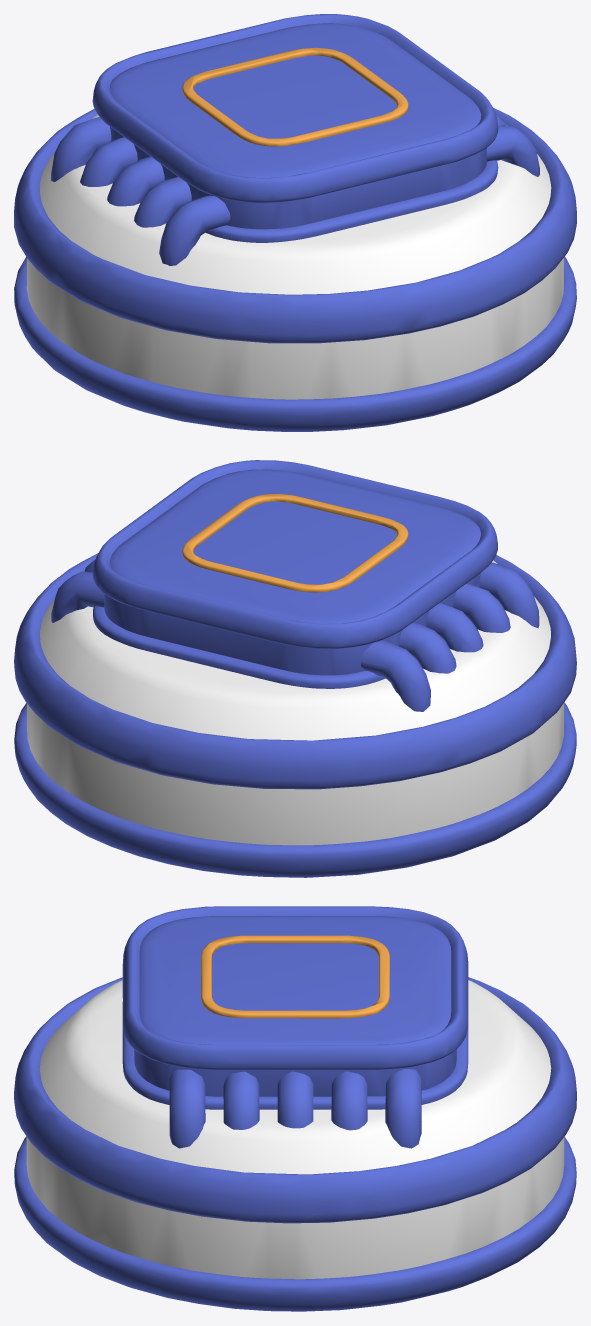
Rendered from baseModelG.glb.
The picture shows the model from 3 angles, top to bottom: view 1: azimuth 30°, elevation 25°; view 2: azimuth 150°, elevation 25°; view 3: azimuth 270°, elevation 25°; orthographic projection.
Parts seen in each view (by area): view 1: Reinforcement_Learning006_Plane113, Reinforcement_Learning004_Circle027, Reinforcement_Learning005_Circle049, Reinforcement_Learning007_Plane112, Reinforcement_Learning008_Plane114; view 2: Reinforcement_Learning006_Plane113, Reinforcement_Learning004_Circle027, Reinforcement_Learning005_Circle049, Reinforcement_Learning007_Plane112, Reinforcement_Learning008_Plane114; view 3: Reinforcement_Learning004_Circle027, Reinforcement_Learning006_Plane113, Reinforcement_Learning005_Circle049, Reinforcement_Learning007_Plane112, Reinforcement_Learning008_Plane114.
Boxes of the visible parts, x1=… form: Reinforcement_Learning006_Plane113: x1=92, y1=14, x2=498, y2=242; Reinforcement_Learning004_Circle027: x1=26, y1=114, x2=563, y2=399; Reinforcement_Learning005_Circle049: x1=14, y1=108, x2=576, y2=431; Reinforcement_Learning007_Plane112: x1=51, y1=112, x2=539, y2=265; Reinforcement_Learning008_Plane114: x1=182, y1=47, x2=408, y2=146; Reinforcement_Learning006_Plane113: x1=92, y1=460, x2=497, y2=688; Reinforcement_Learning004_Circle027: x1=27, y1=560, x2=563, y2=845; Reinforcement_Learning005_Circle049: x1=14, y1=553, x2=576, y2=877; Reinforcement_Learning007_Plane112: x1=51, y1=559, x2=539, y2=711; Reinforcement_Learning008_Plane114: x1=182, y1=494, x2=408, y2=592; Reinforcement_Learning004_Circle027: x1=26, y1=980, x2=564, y2=1279; Reinforcement_Learning006_Plane113: x1=122, y1=906, x2=468, y2=1109; Reinforcement_Learning005_Circle049: x1=14, y1=977, x2=576, y2=1311; Reinforcement_Learning007_Plane112: x1=169, y1=1069, x2=421, y2=1148; Reinforcement_Learning008_Plane114: x1=201, y1=935, x2=389, y2=1018.
Size of the model in its own units: 1 by 0.447 by 1.
